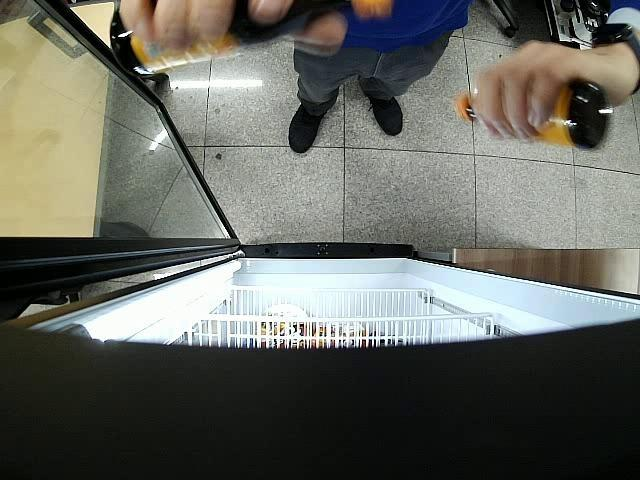17_vita500: (111, 1, 391, 73), (456, 77, 611, 149)
